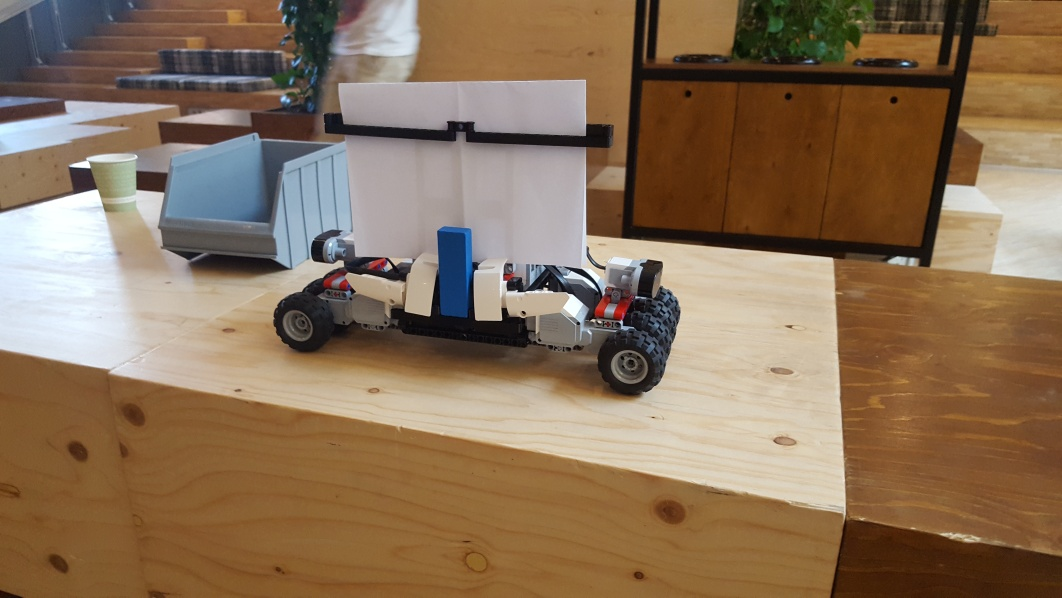car: (272, 78, 682, 394)
cup: (87, 151, 140, 211)
tray: (156, 132, 352, 272)
